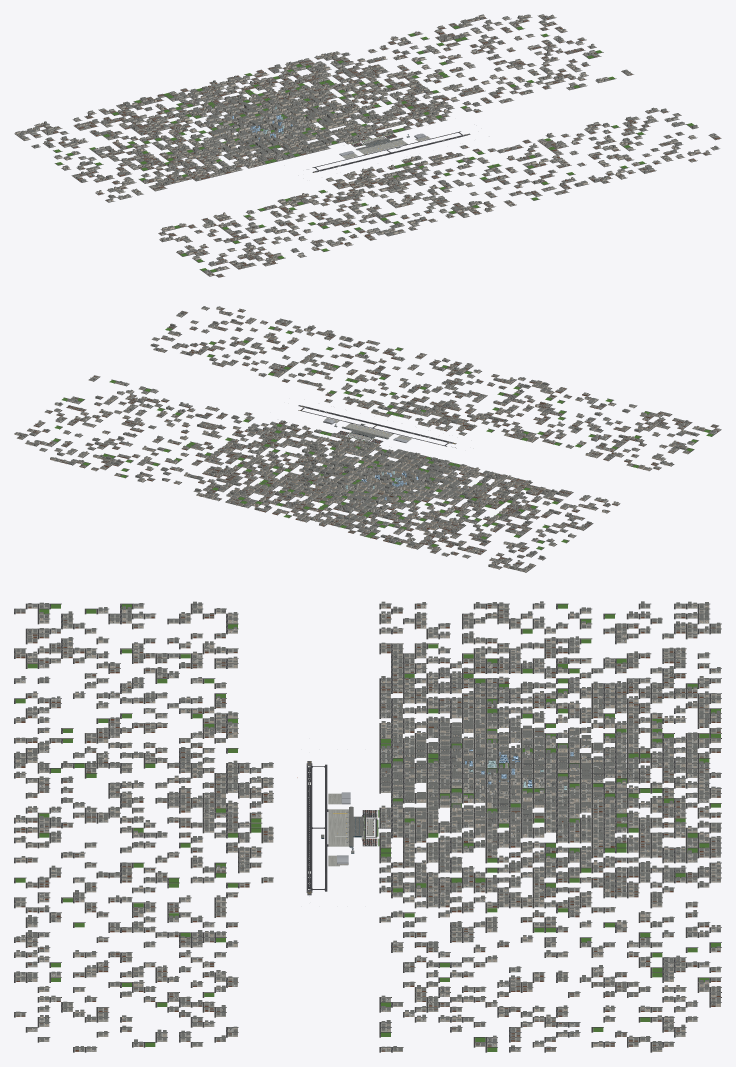
File: airport2.glb
The picture shows the model from 3 angles, top to bottom: view 1: azimuth 30°, elevation 25°; view 2: azimuth 150°, elevation 25°; view 3: azimuth 270°, elevation 25°; orthographic projection. The views are drawn at different scales.
Parts seen in each view (by area): view 1: A2_Town_-1_1, A2_Town_-2_1, A2_Town_0_1, A2_Town_-3_1, A2_Town_-2_2, A2_Town_0_2, A2_Town_-1_2, A2_Town_-2_0, A2_Town_-1_0, A2_Town_-2_-2, A2_Town_0_0, A2_Town_-1_-1 (+26 smaller); view 2: A2_Town_-1_1, A2_Town_-2_1, A2_Town_0_1, A2_Town_-2_2, A2_Town_-3_1, A2_Town_-1_2, A2_Town_0_2, A2_Town_-2_0, A2_Town_0_0, A2_Town_-2_-2, A2_Town_-1_0, A2_Town_-1_-1 (+24 smaller); view 3: A2_Town_-1_1, A2_Town_-2_1, A2_Town_0_1, A2_Town_-3_1, A2_Town_0_2, A2_Town_-2_2, A2_Town_-1_2, A2_Town_-2_0, A2_Town_-1_0, A2_Town_0_0, A2_Town_-1_-1, A2_Town_-2_-2 (+27 smaller).
Boxes of the visible parts, x1,y1,x2,y2 form: A2_Town_-1_1: (238, 91, 346, 137); A2_Town_-2_1: (162, 108, 276, 156); A2_Town_0_1: (308, 74, 420, 119); A2_Town_-3_1: (99, 127, 200, 171); A2_Town_-2_2: (131, 86, 236, 127); A2_Town_0_2: (274, 51, 383, 91); A2_Town_-1_2: (208, 67, 306, 108); A2_Town_-2_0: (202, 137, 300, 173); A2_Town_-1_0: (279, 120, 371, 155); A2_Town_-2_-2: (295, 201, 405, 246); A2_Town_0_0: (349, 103, 446, 137); A2_Town_-1_-1: (335, 163, 428, 197); A2_Town_-1_1: (294, 455, 402, 503); A2_Town_-2_1: (364, 471, 478, 521); A2_Town_0_1: (224, 438, 328, 485); A2_Town_-2_2: (333, 503, 438, 545); A2_Town_-3_1: (440, 491, 540, 533); A2_Town_-1_2: (260, 485, 362, 526); A2_Town_0_2: (193, 466, 291, 511); A2_Town_-2_0: (405, 456, 502, 491); A2_Town_0_0: (258, 420, 353, 456); A2_Town_-2_-2: (492, 379, 598, 427); A2_Town_-1_0: (335, 439, 427, 471); A2_Town_-1_-1: (392, 396, 483, 431); A2_Town_-1_1: (462, 762, 603, 828); A2_Town_-2_1: (462, 700, 603, 768); A2_Town_0_1: (462, 825, 603, 893); A2_Town_-3_1: (462, 641, 603, 703); A2_Town_0_2: (603, 825, 721, 893); A2_Town_-2_2: (603, 700, 721, 768); A2_Town_-1_2: (603, 764, 721, 828); A2_Town_-2_0: (379, 701, 462, 768); A2_Town_-1_0: (379, 764, 462, 828); A2_Town_0_0: (379, 825, 462, 893); A2_Town_-1_-1: (167, 765, 273, 828); A2_Town_-2_-2: (14, 701, 167, 768).
Size of the model in its own units: 10818 by 110 by 7209.
30 materials, 15 textured.
